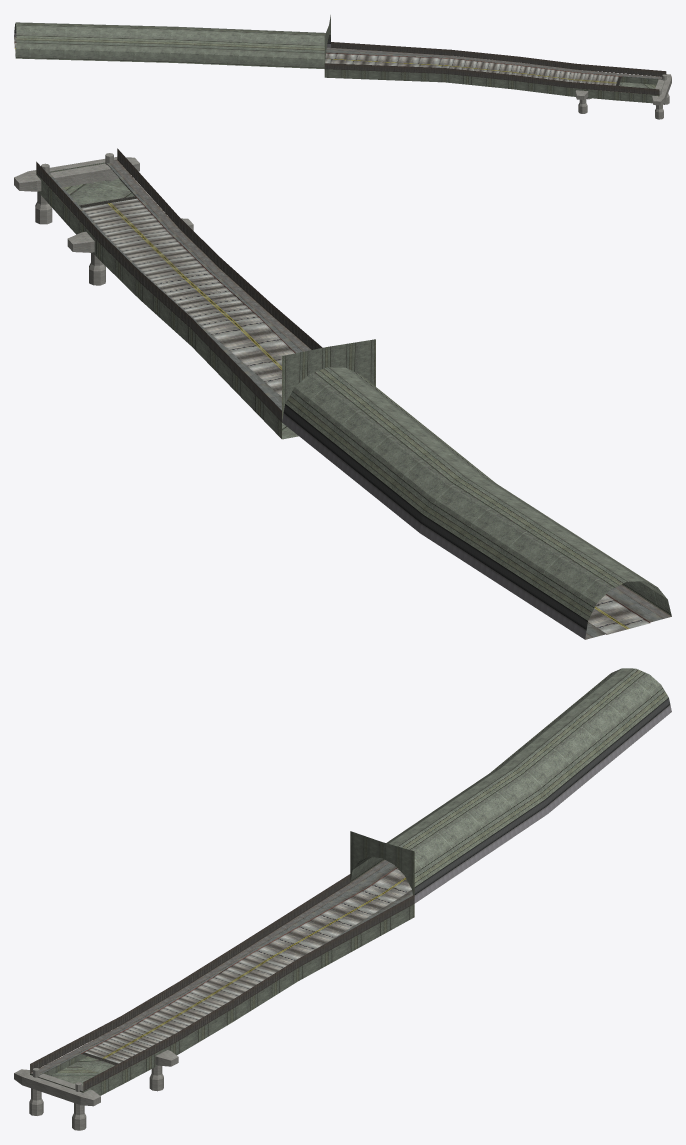
The model's file is tcelawcuntun1a_law2.obj.
3 views of the same model, one above another, from view 1: azimuth 30°, elevation 25°; view 2: azimuth 150°, elevation 25°; view 3: azimuth 270°, elevation 25° (orthographic). The views are drawn at different scales.
Parts seen in each view (by area): view 1: TCElawcuntun1a_law2; view 2: TCElawcuntun1a_law2; view 3: TCElawcuntun1a_law2.
Part boxes in pixels (box(x1,y1,x2,y2)): TCElawcuntun1a_law2: box(14, 15, 671, 119); TCElawcuntun1a_law2: box(14, 148, 671, 639); TCElawcuntun1a_law2: box(14, 668, 671, 1130).
Size of the model in its own units: 222 by 28.18 by 163.
